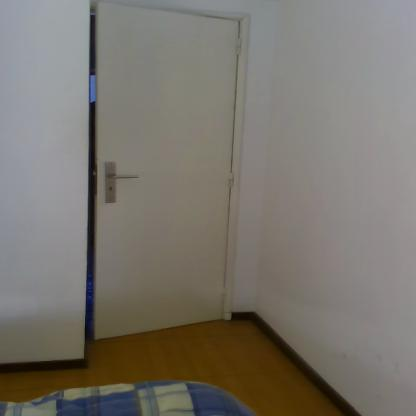door: (96, 4, 231, 332)
hinged: (235, 36, 243, 56), (228, 170, 235, 188), (222, 288, 227, 304)
lever: (110, 174, 140, 180)
